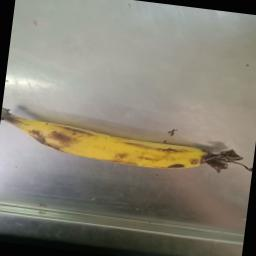Banana Unripe: (2, 89, 252, 193)
